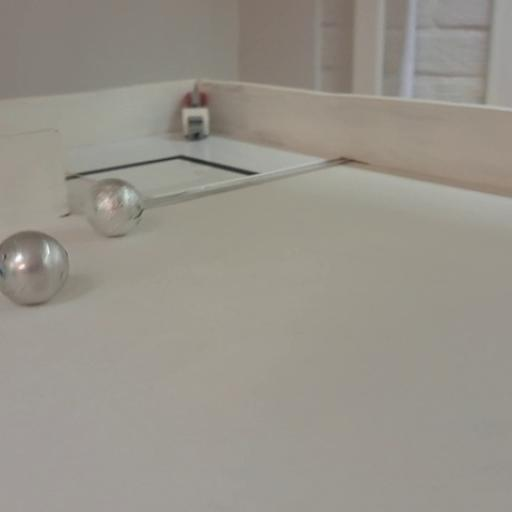alive: (0, 230, 69, 306), (84, 177, 146, 239)
